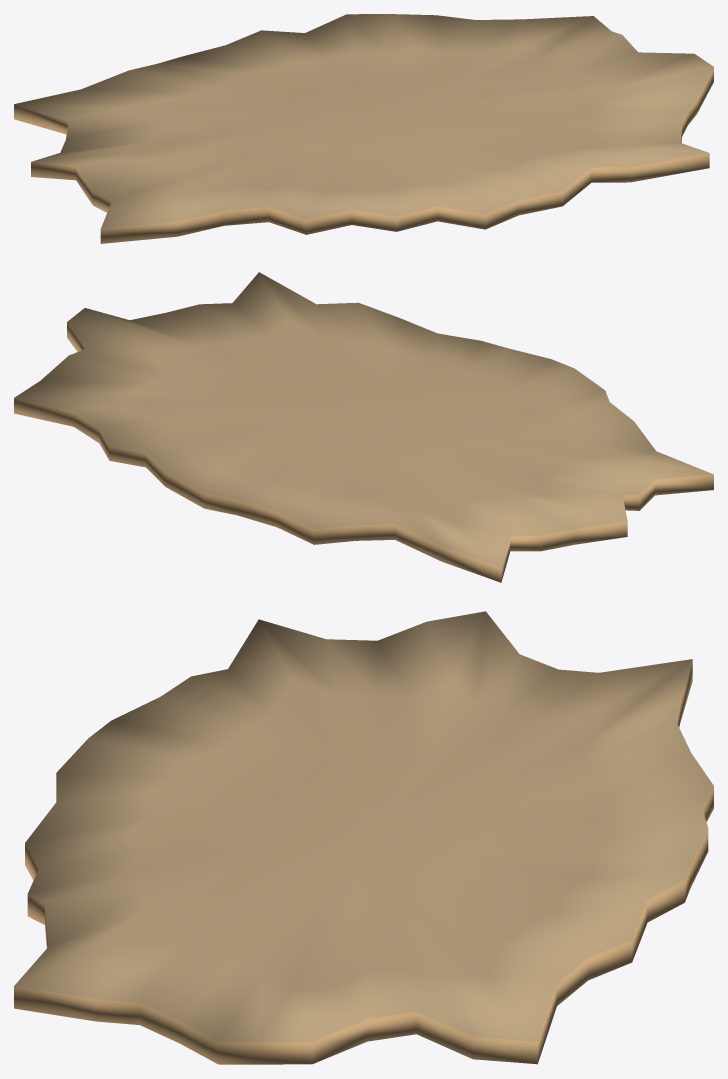
Rendered from w3d_pelt_goat_hide_s.glb.
The picture shows the model from 3 angles, top to bottom: view 1: azimuth 30°, elevation 25°; view 2: azimuth 150°, elevation 25°; view 3: azimuth 270°, elevation 25°; orthographic projection. The views are drawn at different scales.
Parts seen in each view (by area): view 1: w3d_pelt_goat_hide_s; view 2: w3d_pelt_goat_hide_s; view 3: w3d_pelt_goat_hide_s.
Part boxes in pixels (<box>): w3d_pelt_goat_hide_s: <box>14,14,713,243</box>; w3d_pelt_goat_hide_s: <box>14,272,713,582</box>; w3d_pelt_goat_hide_s: <box>14,611,713,1064</box>.
Bounding box in the file's own units: 0.6346 × 0.0326 × 0.4251.
